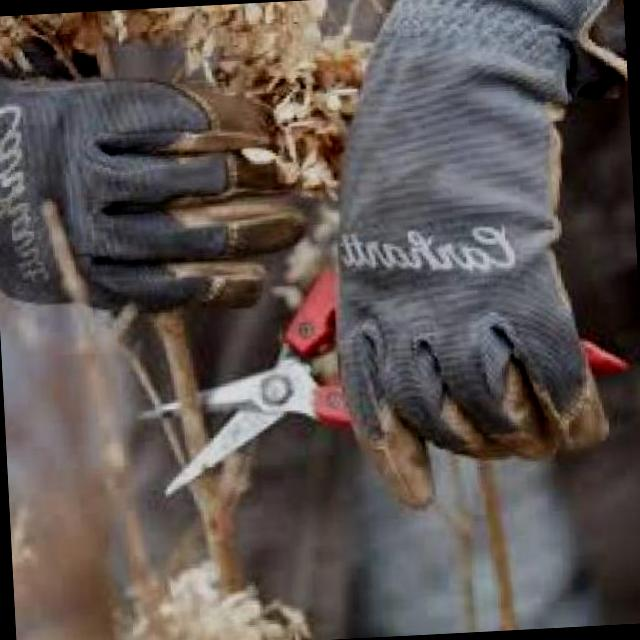gloves: (344, 0, 620, 521)
